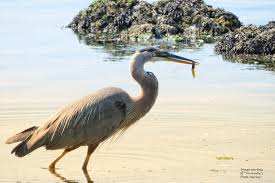Walking: (3, 38, 204, 183)
